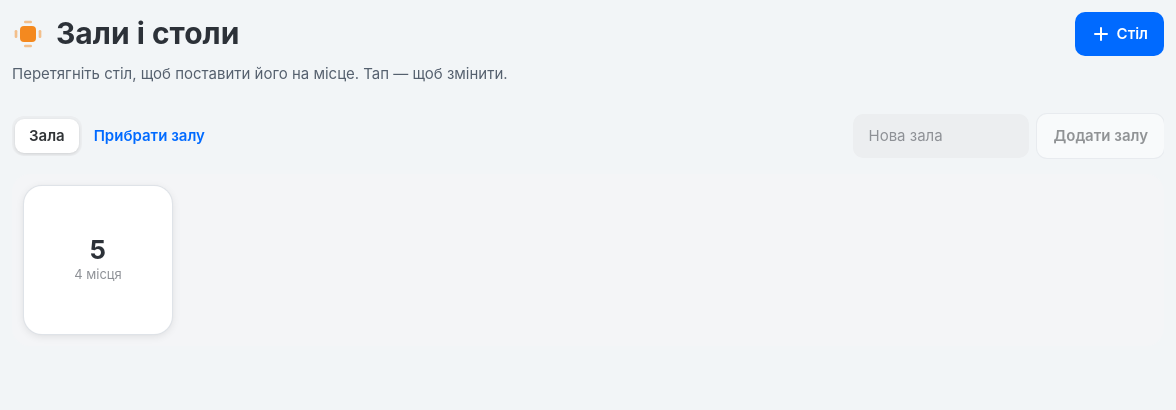
Scenario: HallEditorPage › says the server’s words when it refuses
In the field with test id "editor-hall-name": (942, 136) [854,114,1030,158], type "Тераса"
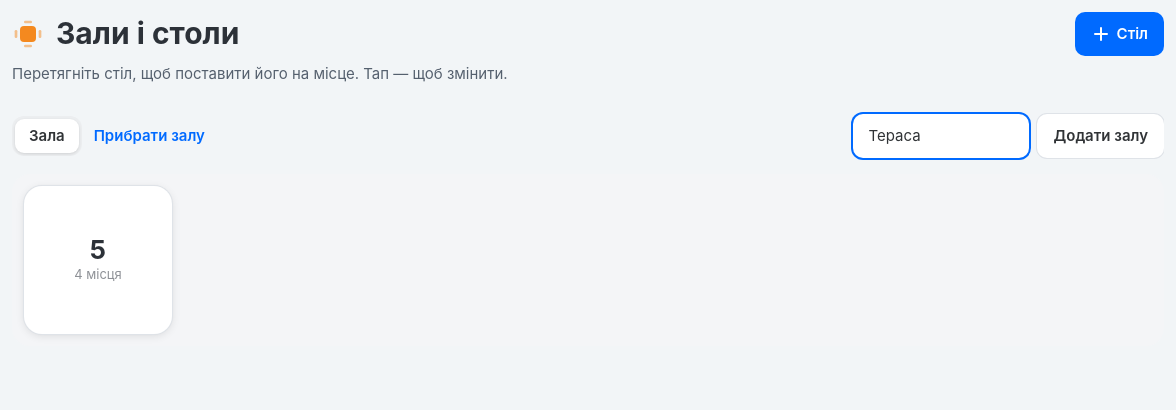
Click the button with test id "editor-hall-add": (1101, 136) [1038,114,1164,158]
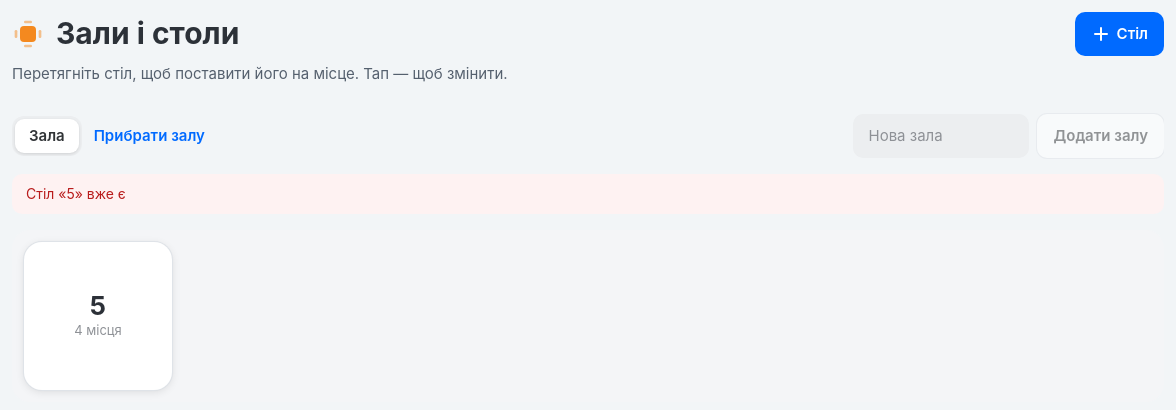
Expected: the text with test id "editor-banner" reads "Стіл «5» вже є", [26,185,126,202]
